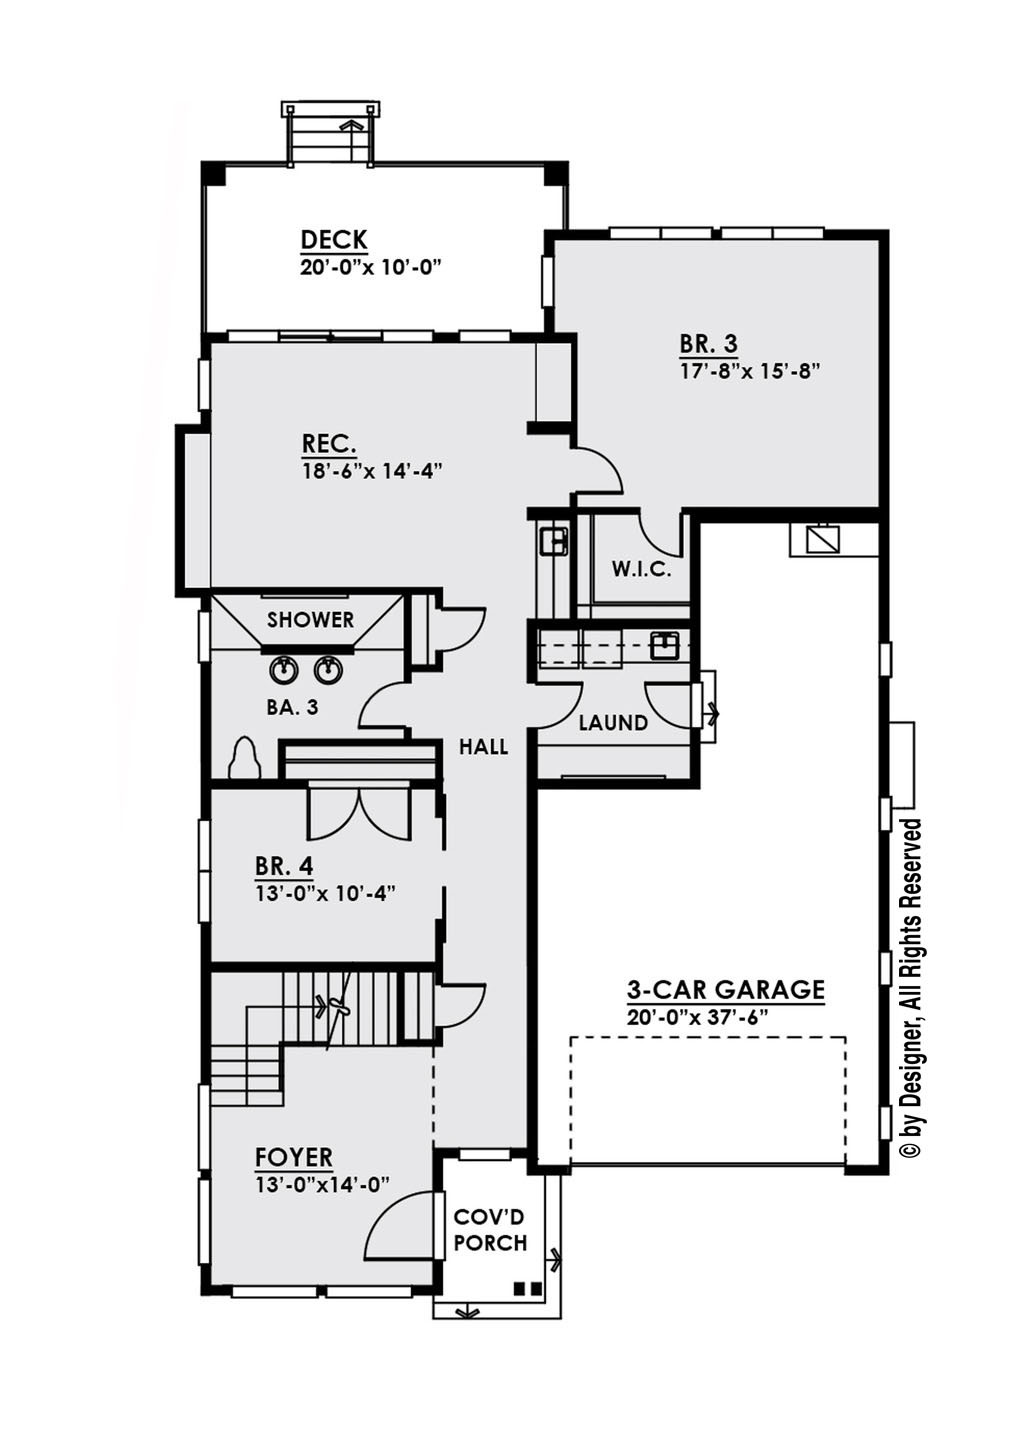door: (295, 785, 418, 846), (361, 1183, 448, 1265), (641, 676, 704, 739), (563, 439, 623, 497), (351, 679, 412, 737), (629, 505, 689, 559), (529, 672, 583, 729), (438, 602, 494, 646), (436, 982, 492, 1025)
large_sink: (214, 729, 278, 782)
stairs: (201, 974, 428, 1116), (278, 97, 392, 172)
windows: (215, 322, 521, 352), (604, 219, 828, 251), (224, 1272, 414, 1308), (192, 1092, 223, 1265), (197, 814, 214, 920), (192, 357, 214, 411)
